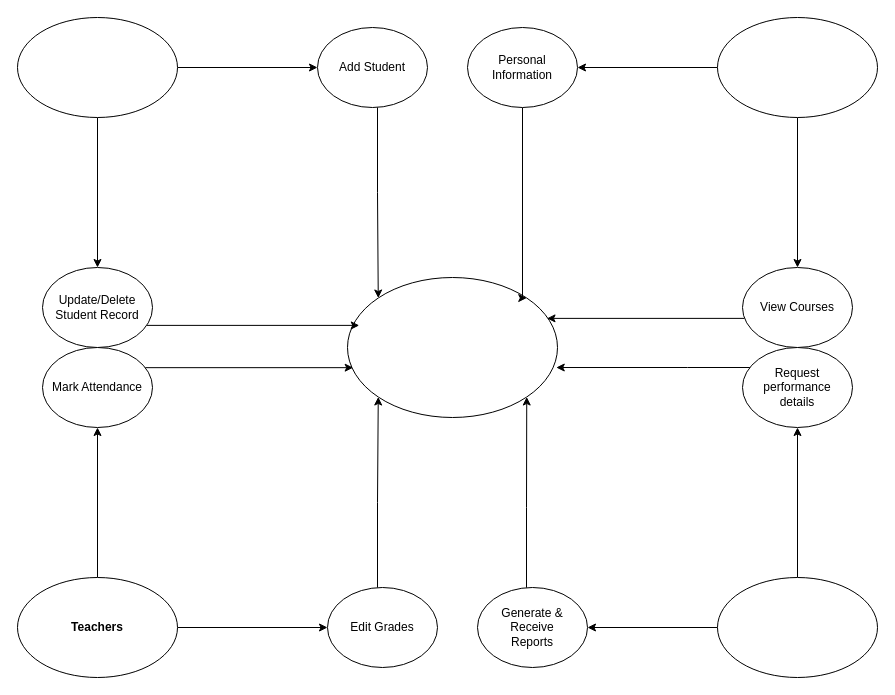
This 895x695 diagram has some shape labels left out. The centre of each missing label's shape, as x and y in pixels:
Admin: the point at 97,67
Parents: the point at 797,627
Student: the point at 797,67
Student Information System: the point at 452,347
